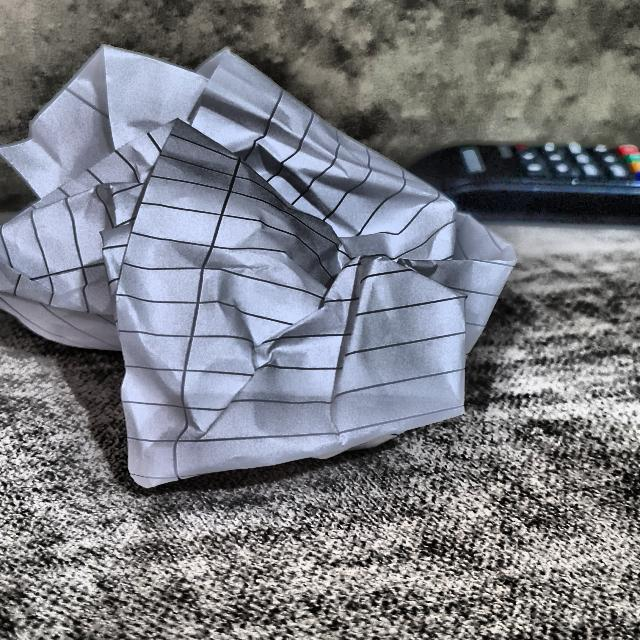paper: (0, 52, 519, 462)
